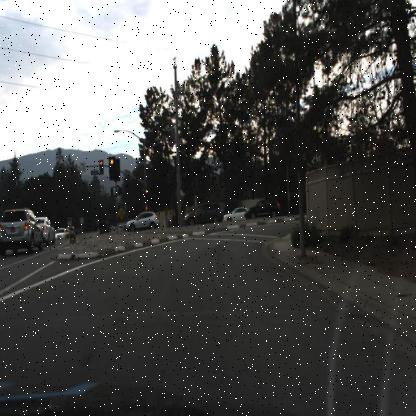car: (0, 203, 42, 256), (183, 201, 224, 228), (242, 197, 283, 221), (124, 209, 162, 232), (225, 203, 249, 224), (42, 212, 56, 245)
trafficLight: (68, 162, 73, 178)
trafficLight-Red: (109, 156, 115, 177), (98, 159, 104, 174), (144, 188, 148, 202)
